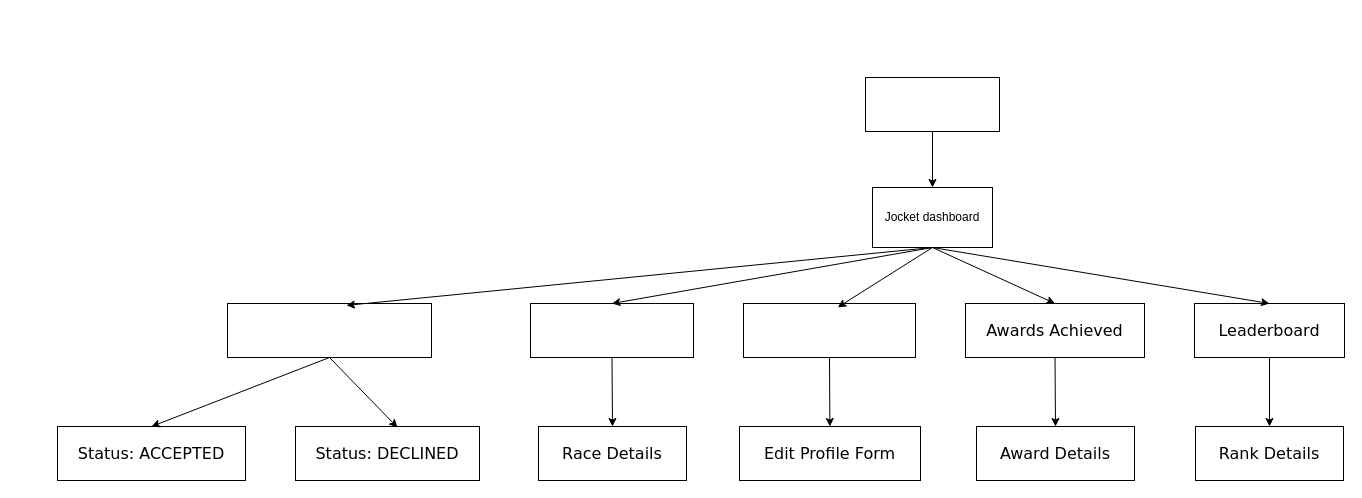
Some shapes in this 1362 by 498 pixel diagram are drawn without their labels. Each missing label, with the box of its shape:
Invitations Received: (226, 302, 432, 358)
Login: (864, 76, 1000, 132)
Personal Profile: (742, 302, 916, 358)
Race Schedule: (530, 302, 694, 358)
